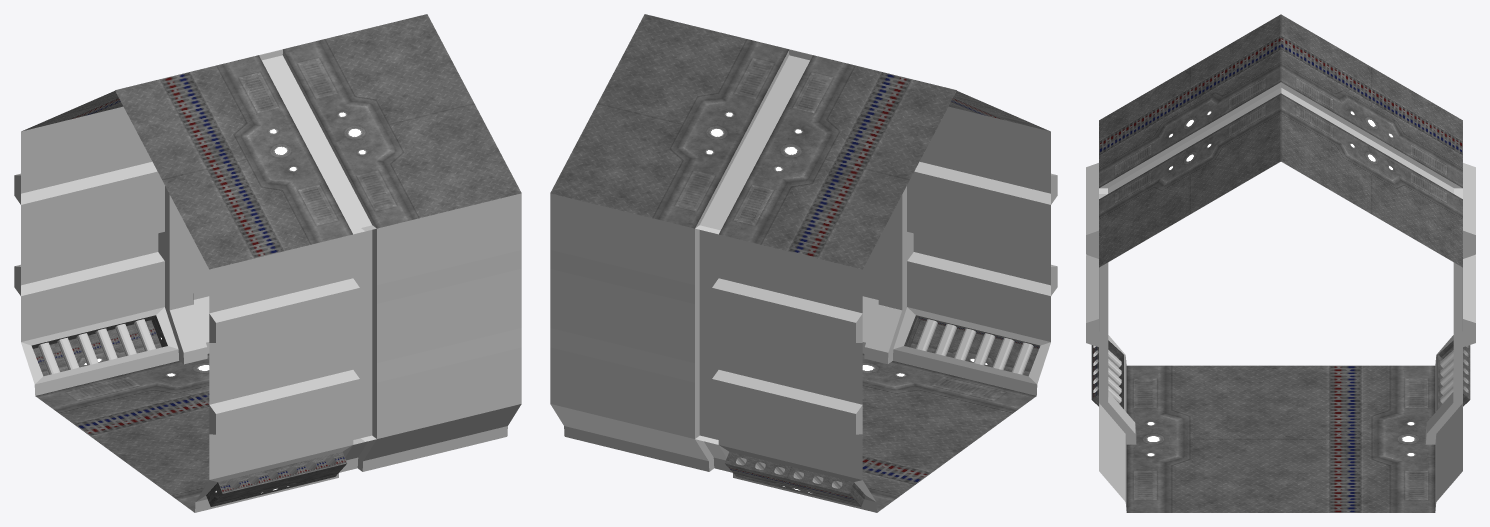
File: Corridor2.fbx
3 views of the same model, side by side, from view 1: azimuth 30°, elevation 25°; view 2: azimuth 150°, elevation 25°; view 3: azimuth 270°, elevation 25° (orthographic). The views are drawn at different scales.
Parts seen in each view (by area): view 1: Plane.003; view 2: Plane.003; view 3: Plane.003.
Part boxes in pixels (left/top/right/bottom): Plane.003: left=14, top=14, right=521, bottom=512; Plane.003: left=550, top=14, right=1057, bottom=512; Plane.003: left=1086, top=14, right=1475, bottom=512.
Size of the model in its own units: 409 by 455 by 457.
